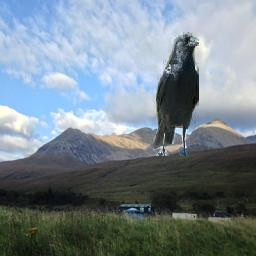Crow: (153, 32, 199, 156)
